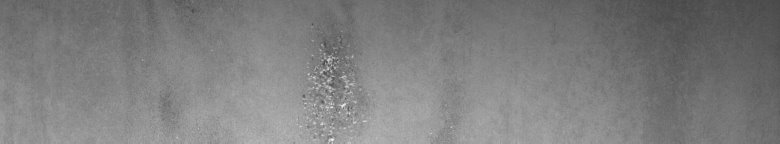hc: (300, 36, 368, 136)
